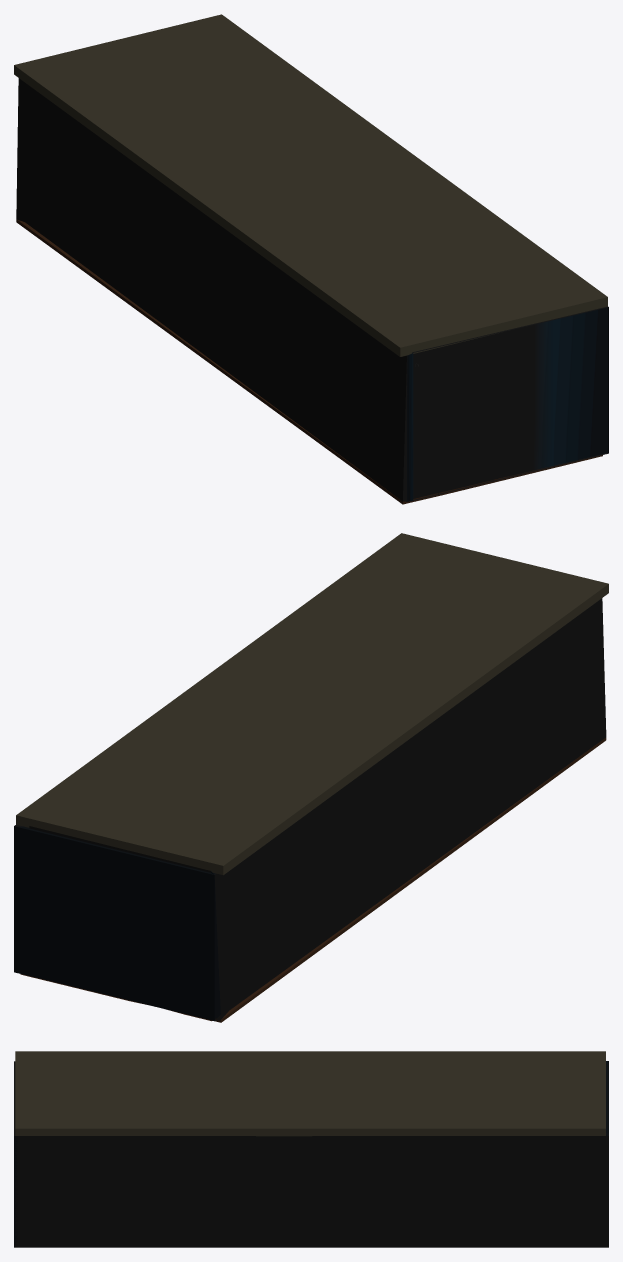
File: coridor10.fbx
The picture shows the model from 3 angles, top to bottom: view 1: azimuth 30°, elevation 25°; view 2: azimuth 150°, elevation 25°; view 3: azimuth 270°, elevation 25°; orthographic projection. The views are drawn at different scales.
Visible parts, largest first — view 1: Plane.242; view 2: Plane.242; view 3: Plane.242.
Part boxes in pixels (x1=…): Plane.242: x1=14, y1=14, x2=608, y2=504; Plane.242: x1=14, y1=533, x2=608, y2=1022; Plane.242: x1=14, y1=1051, x2=608, y2=1247.
Size of the model in its own units: 822 by 607 by 2666.
